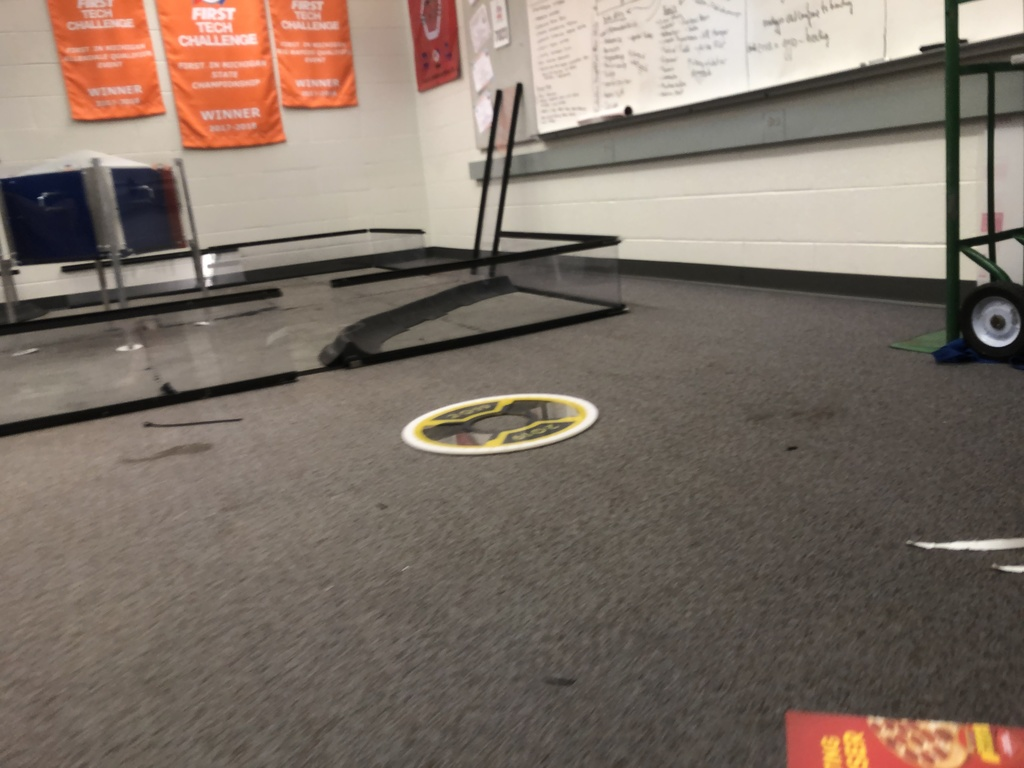hatch_panel: (395, 381, 603, 454)
